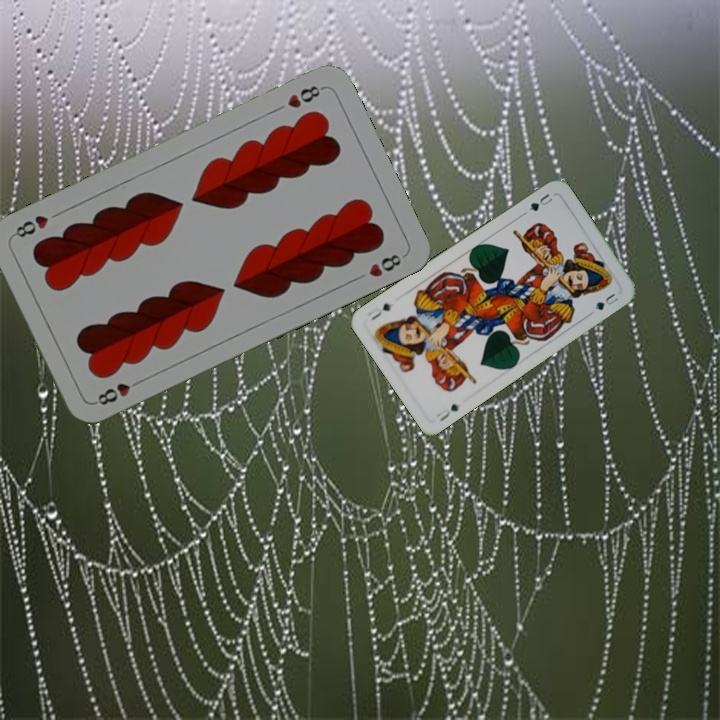GU: (520, 189, 555, 217), (432, 400, 462, 424)
H8: (90, 375, 145, 408), (283, 81, 327, 111)
